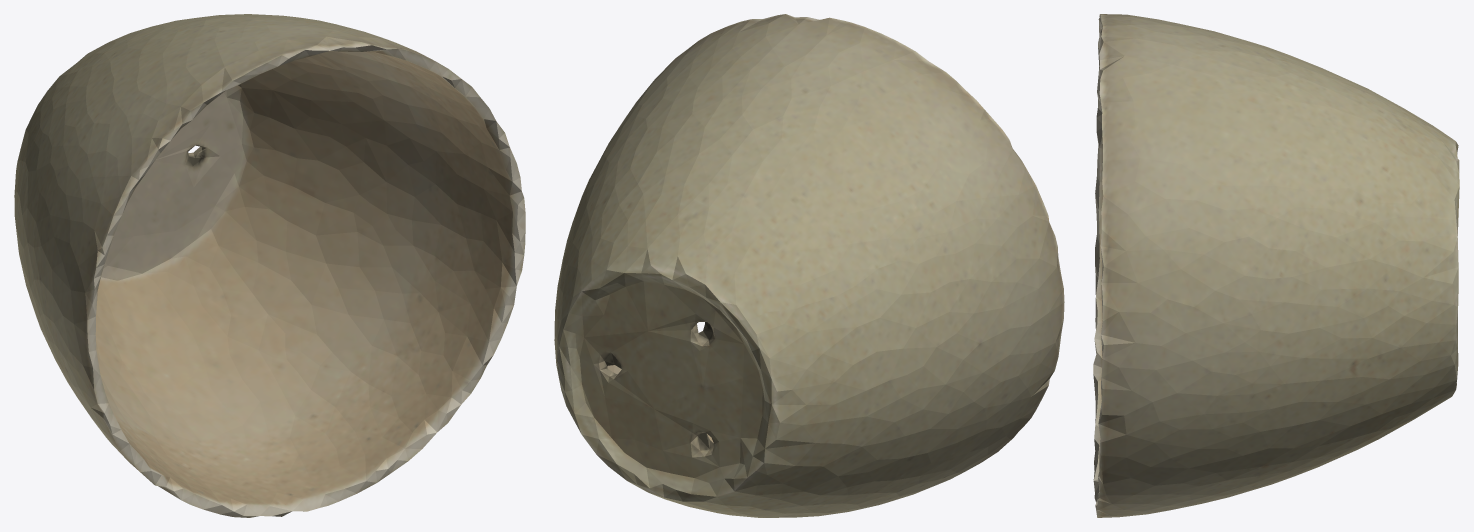
3 renders of one model, left to right at view 1: azimuth 30°, elevation 25°; view 2: azimuth 150°, elevation 25°; view 3: azimuth 270°, elevation 25°, orthographic.
Size of the model in its own units: 0.0997 by 0.0994 by 0.0721.
Materials: 1 (1 with a texture image).
